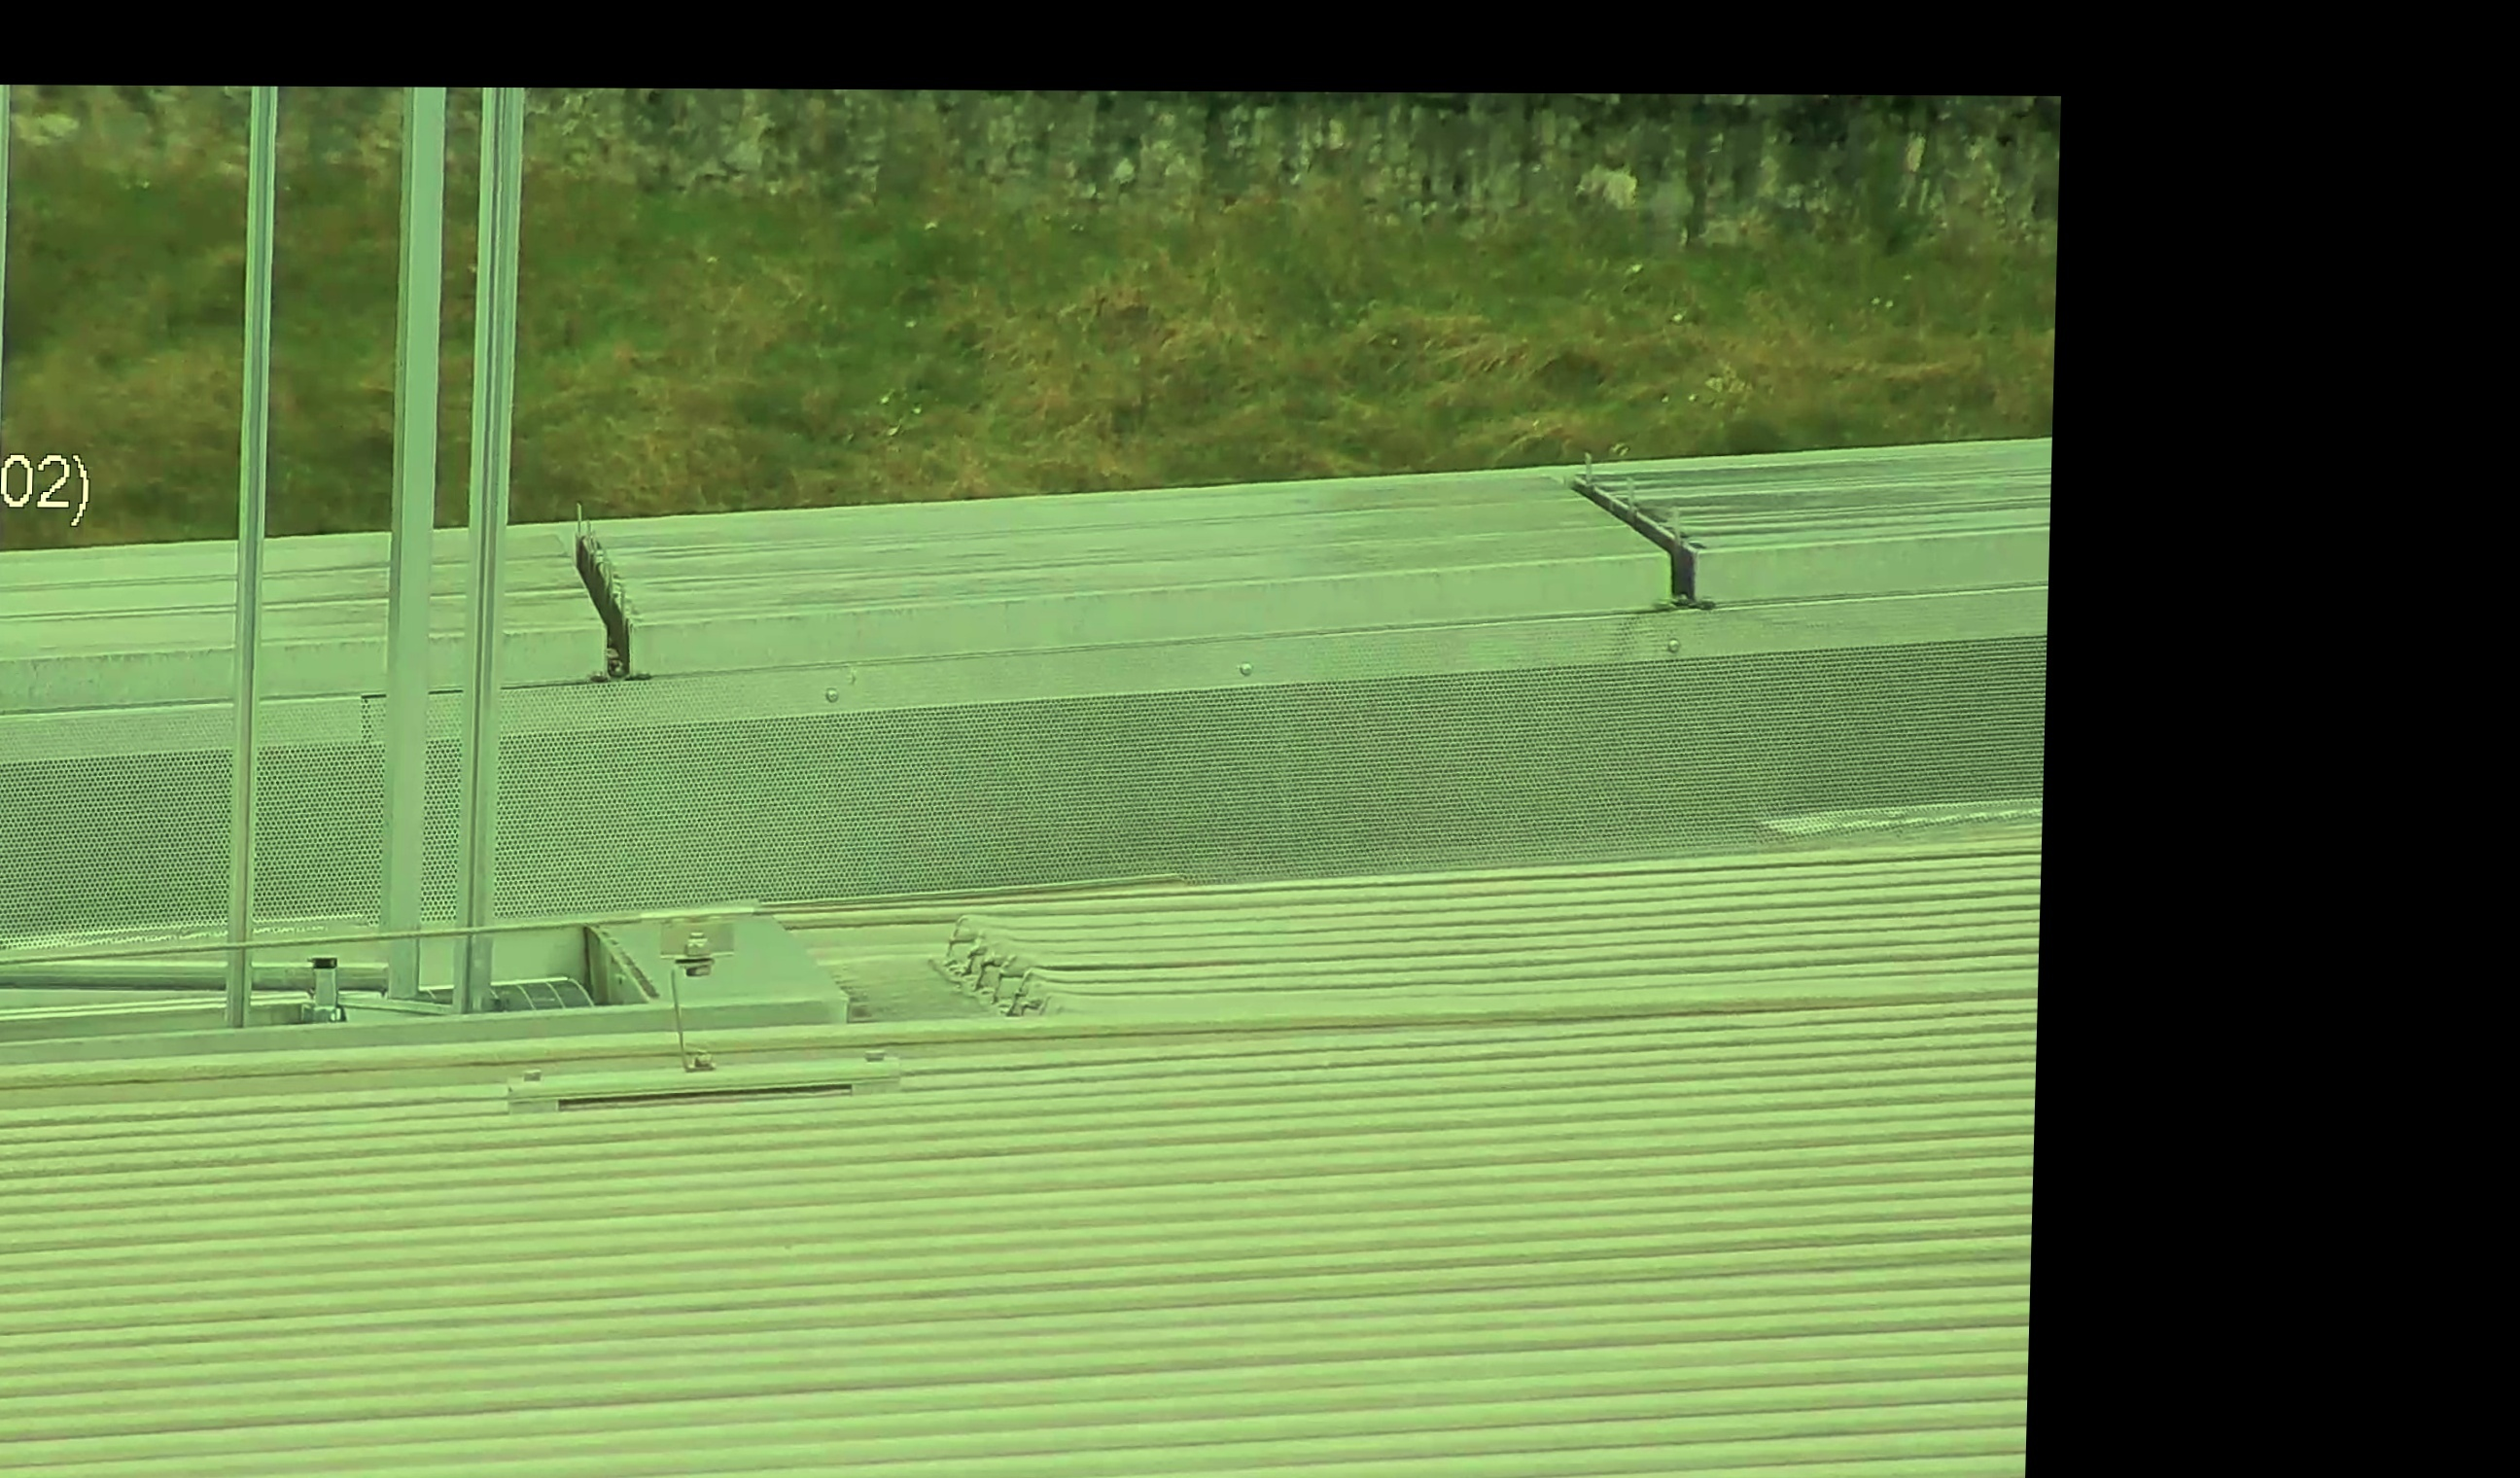Other: (550, 507, 652, 688)
